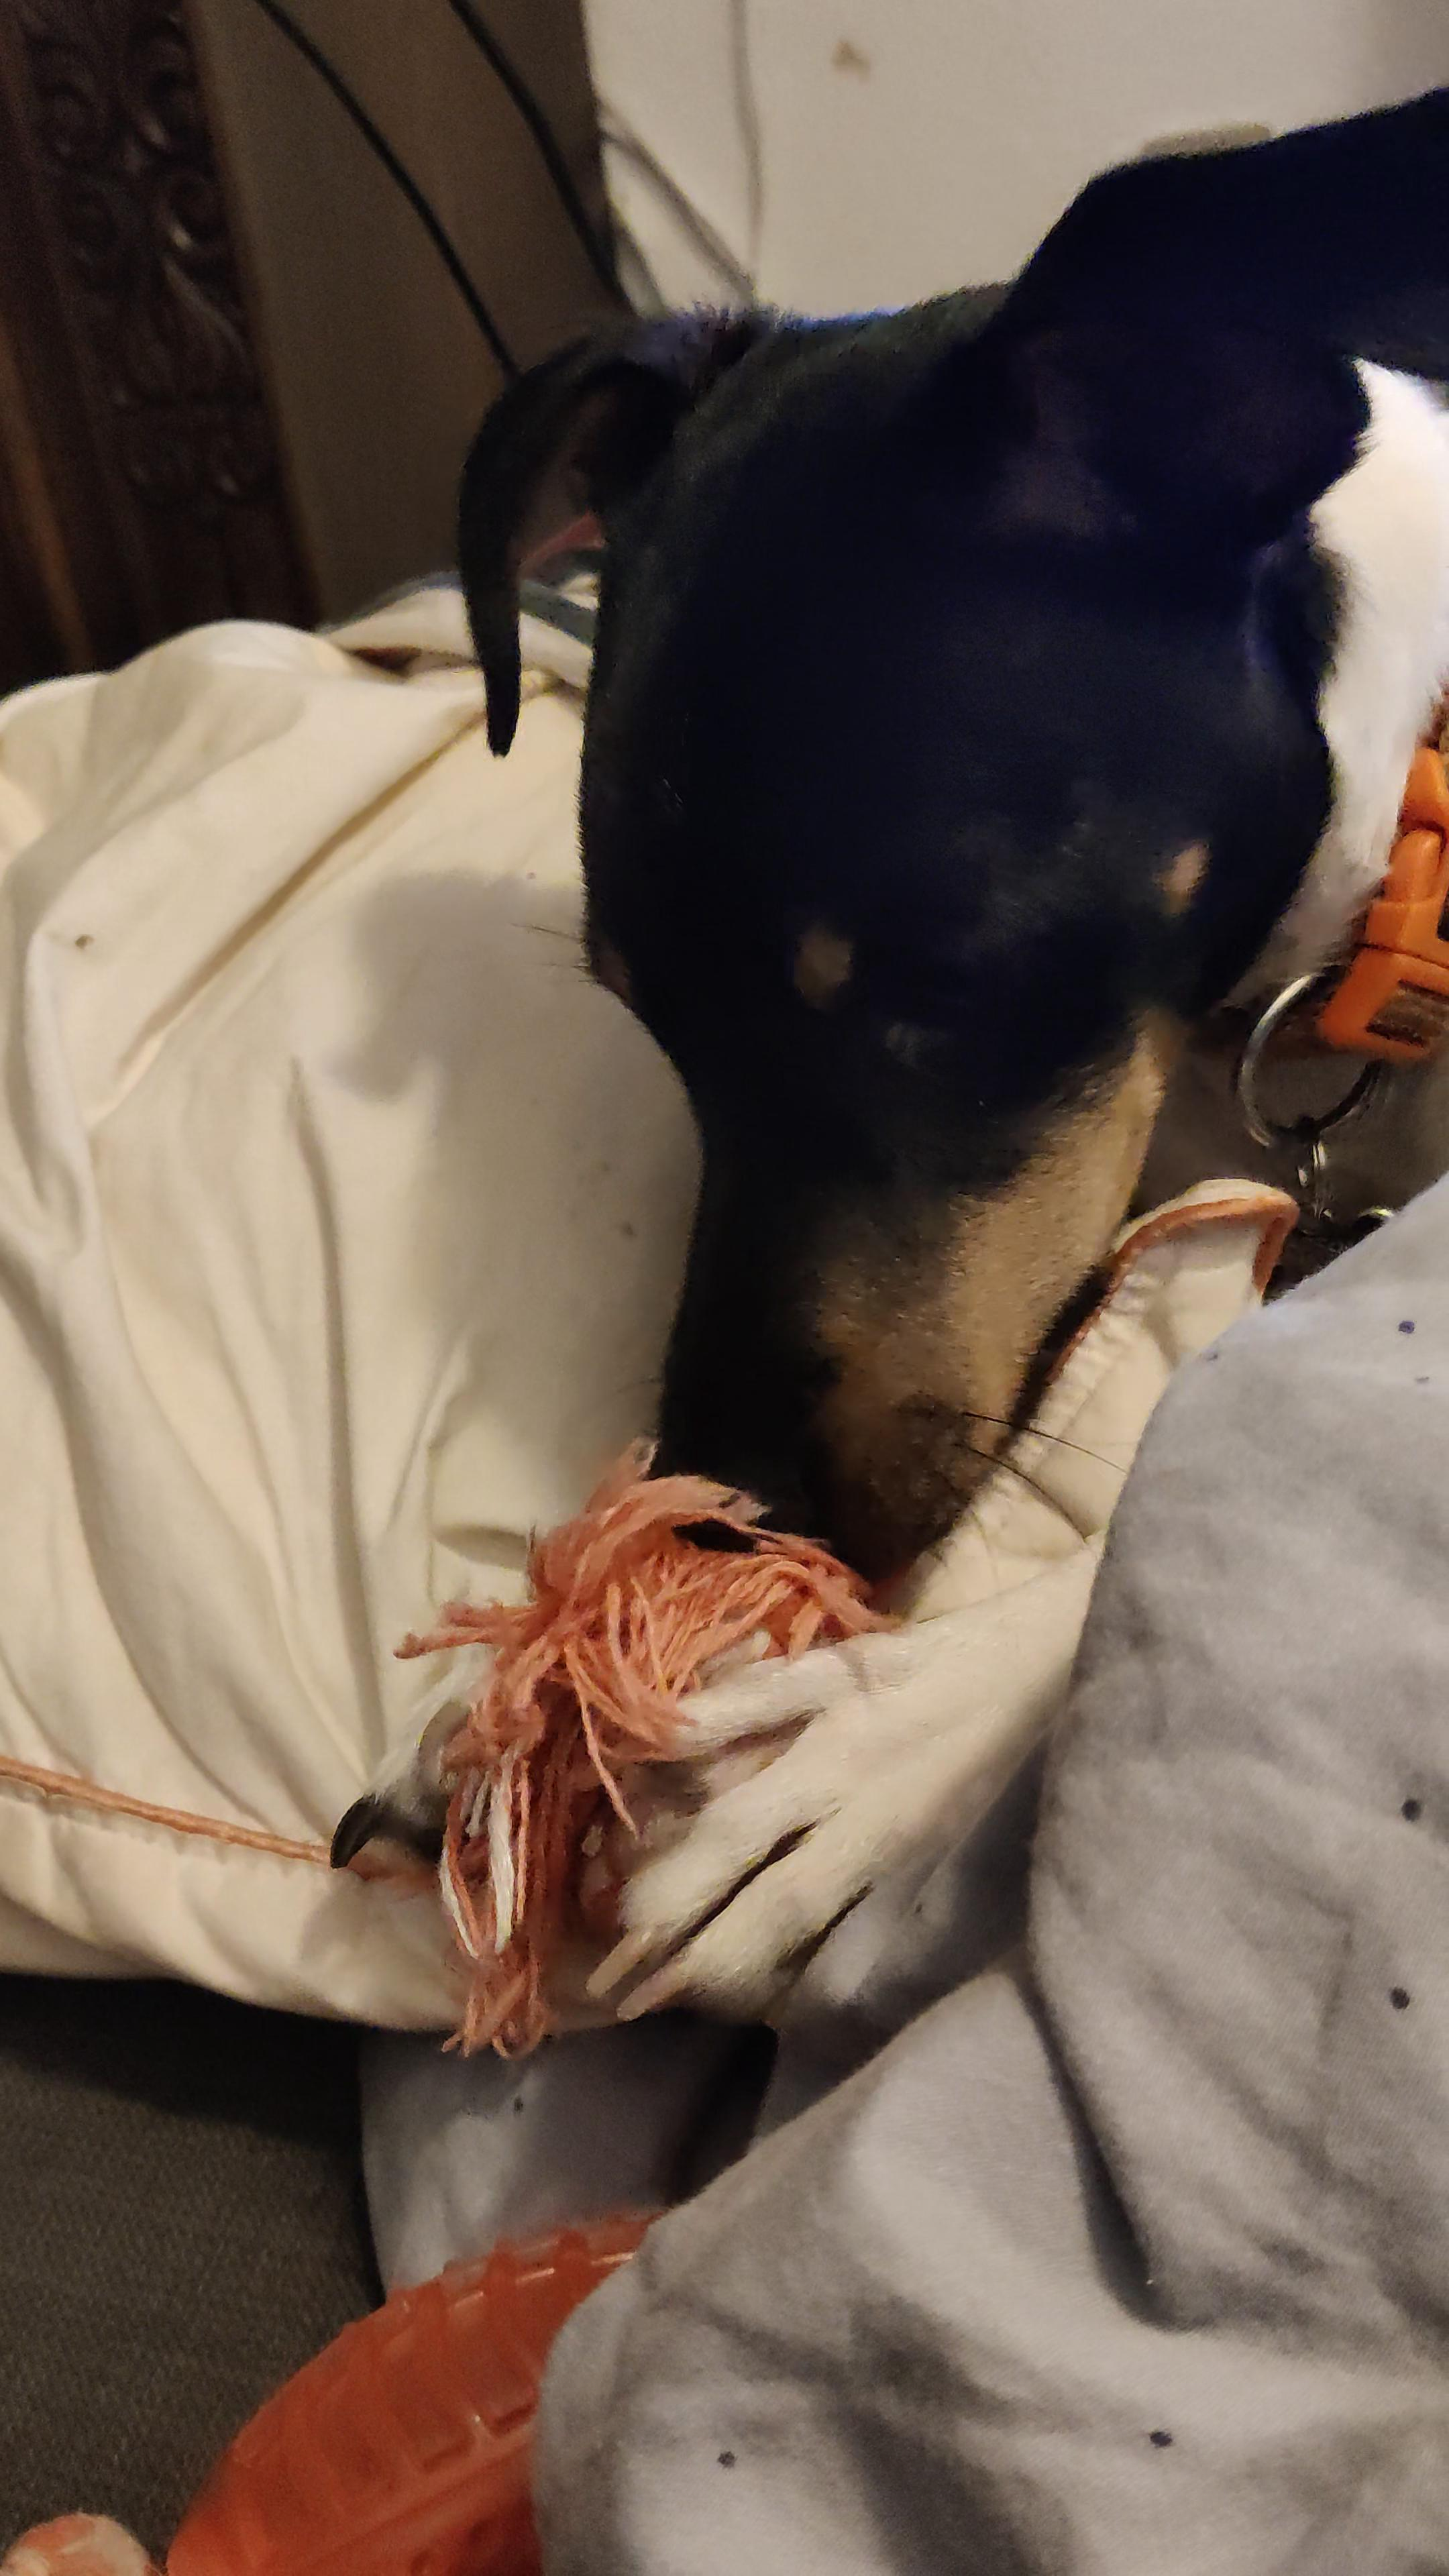Dog: (318, 74, 1449, 2049)
